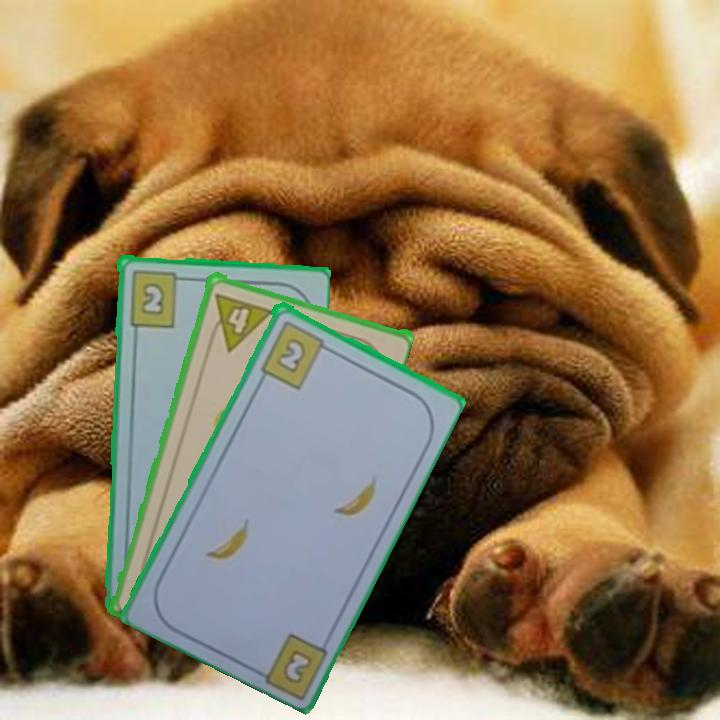2b: (257, 317, 334, 391), (126, 266, 189, 329), (282, 649, 312, 683)
4p: (204, 289, 274, 353)
